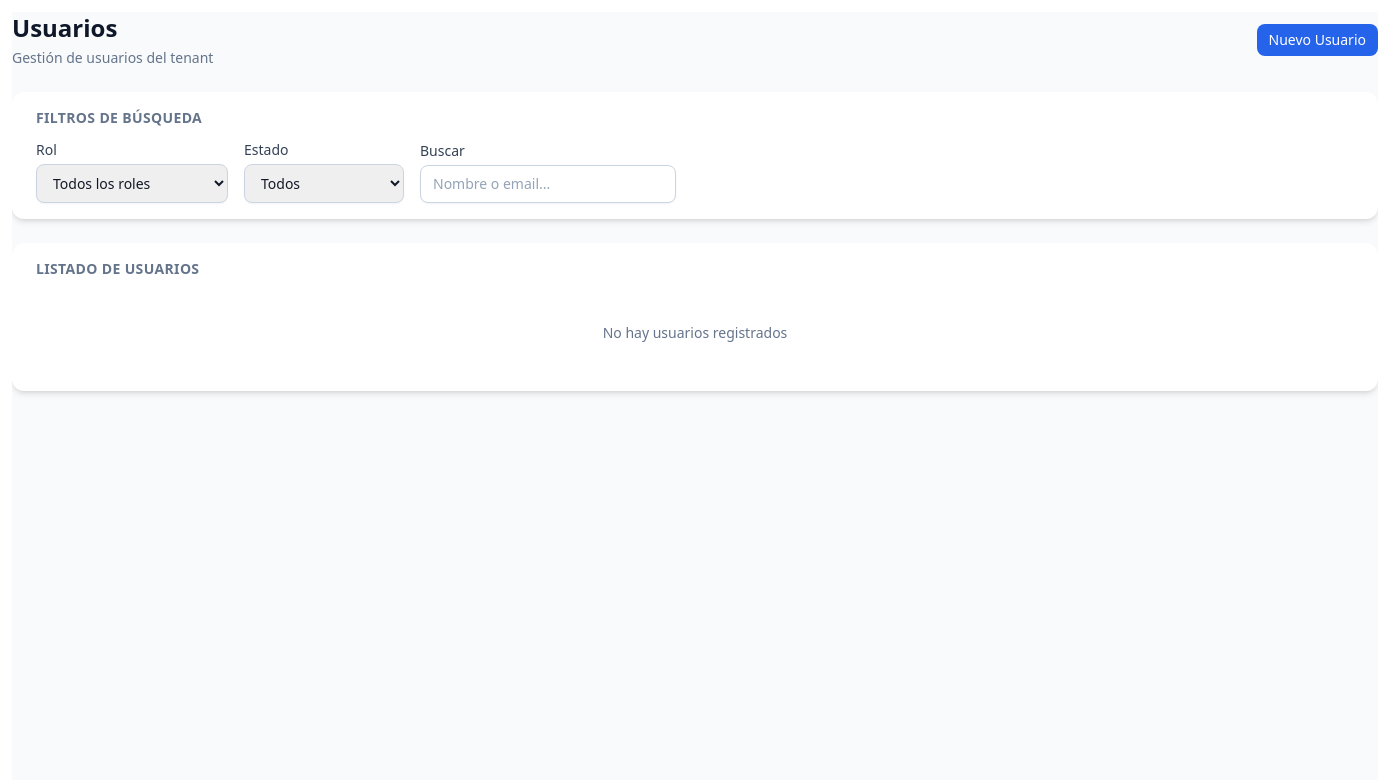
Test case: UsuariosPage › abre formulario de nuevo usuario
The image size is (1390, 780).
Click the button "Nuevo Usuario": (1317, 40) [1256,24,1378,56]
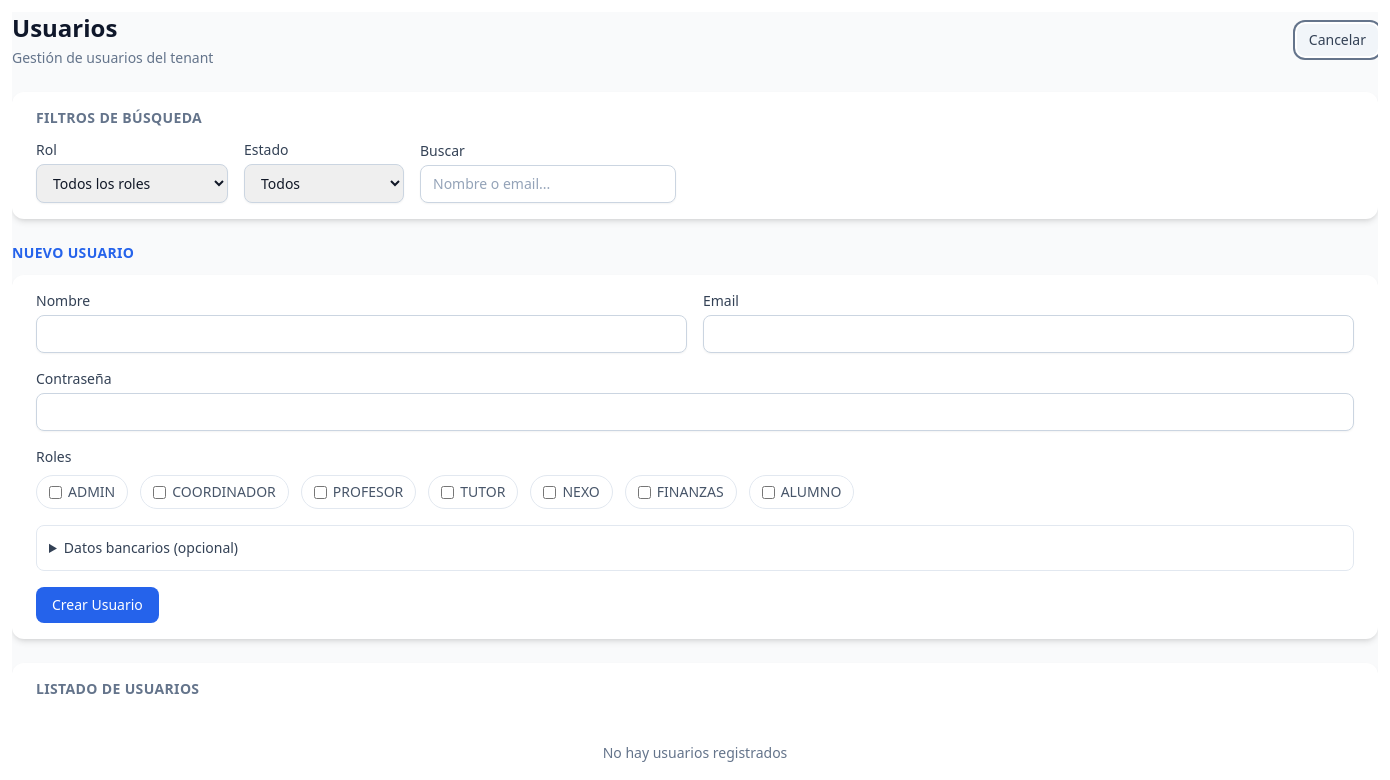
Check: the field labelled "Nombre" is shown, box [36,315,687,353]
Check: the field labelled "Email" is shown, box [703,315,1354,353]
